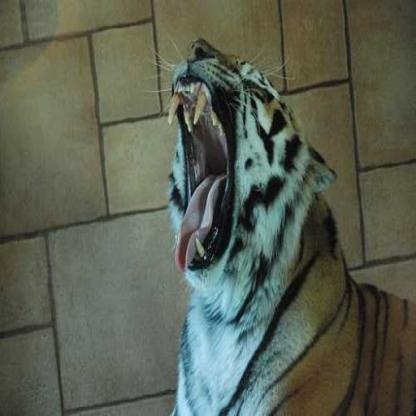Tiger: (142, 26, 415, 415)
